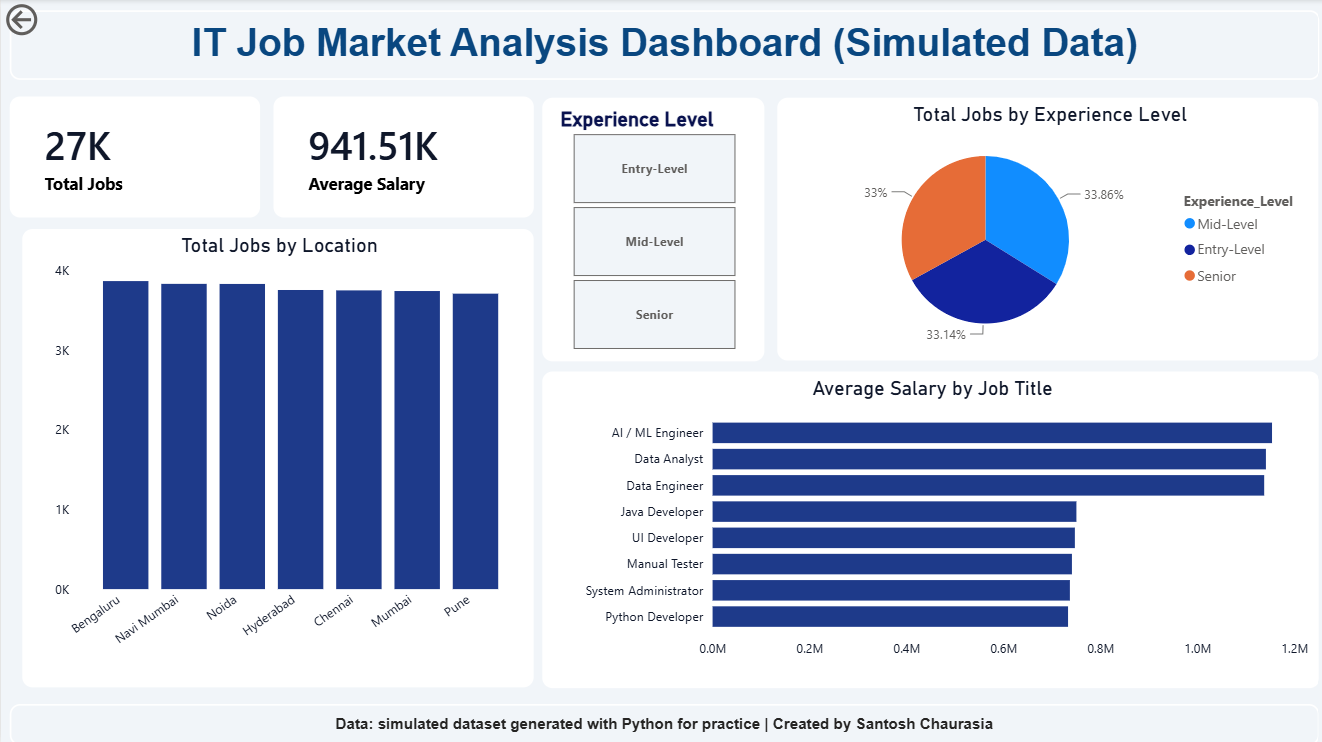

What the dashboard file says about the page in this screenshot:
{"tool":"powerbi","page":{"name":"Page 1","canvas":[1280,720],"ordinal":0},"visuals":[{"type":"textbox","box":[8,11,1265,67],"z":0},{"type":"cardVisual","fields":{"Data":["IT_Job_Market_Clean.Total Jobs"]},"box":[8.4,94.1,241.3,117],"z":1000},{"type":"cardVisual","fields":{"Data":["IT_Job_Market_Clean.Average Salary"]},"box":[263,94,251,117],"z":2000},{"type":"clusteredBarChart","title":"Average Salary by Job Title","fields":{"Category":["IT_Job_Market_Clean.Job_Title"],"Y":["IT_Job_Market_Clean.Average Salary"]},"box":[522.4,359.5,750.4,305.2],"z":3000},{"type":"clusteredColumnChart","fields":{"Category":["IT_Job_Market_Clean.Location"],"Y":["IT_Job_Market_Clean.Total Jobs"]},"box":[20.5,222,493.4,442.8],"z":4000},{"type":"pieChart","title":"\tTotal Jobs by Experience Level","fields":{"Category":["IT_Job_Market_Clean.Experience_Level"],"Y":["IT_Job_Market_Clean.Total Jobs"]},"box":[749.2,95.3,523.6,253.4],"z":5000},{"type":"actionButton","box":[0,0,100,40],"z":6000},{"type":"slicer","fields":{"Values":["IT_Job_Market_Clean.Experience_Level"]},"box":[522.4,95.3,214.7,254.6],"z":7000},{"type":"textbox","box":[8.4,680.4,1264.3,39.8],"z":7001}]}

Visuals, with their boxes in screenshot pixels (x1, y1, x2, y2), scaled from the page's 1280x720 canvas onto the 1322x742 screenshot:
textbox: bbox=[8, 11, 1315, 80]
cardVisual - IT_Job_Market_Clean.Total Jobs: bbox=[9, 97, 258, 218]
cardVisual - IT_Job_Market_Clean.Average Salary: bbox=[272, 97, 531, 217]
"Average Salary by Job Title" clusteredBarChart: bbox=[540, 370, 1315, 685]
clusteredColumnChart - IT_Job_Market_Clean.Location x IT_Job_Market_Clean.Total Jobs: bbox=[21, 229, 531, 685]
"	Total Jobs by Experience Level" pieChart: bbox=[774, 98, 1315, 359]
actionButton: bbox=[0, 0, 103, 41]
slicer - IT_Job_Market_Clean.Experience_Level: bbox=[540, 98, 761, 361]
textbox: bbox=[9, 701, 1314, 741]
